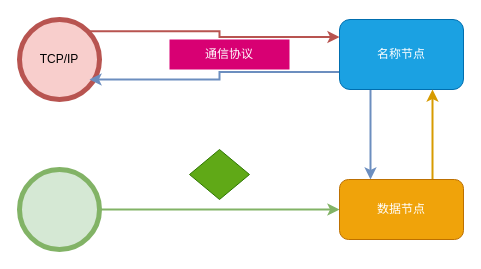
The diagram is 481 pixels wide and 269 high, and some of its shapes have lost their labels. The shapes that lost their labels are listed below. From the top down, each one's centre as x and y in pixels, then its label:
point (219, 174): 远程
point (59, 209): RPC
